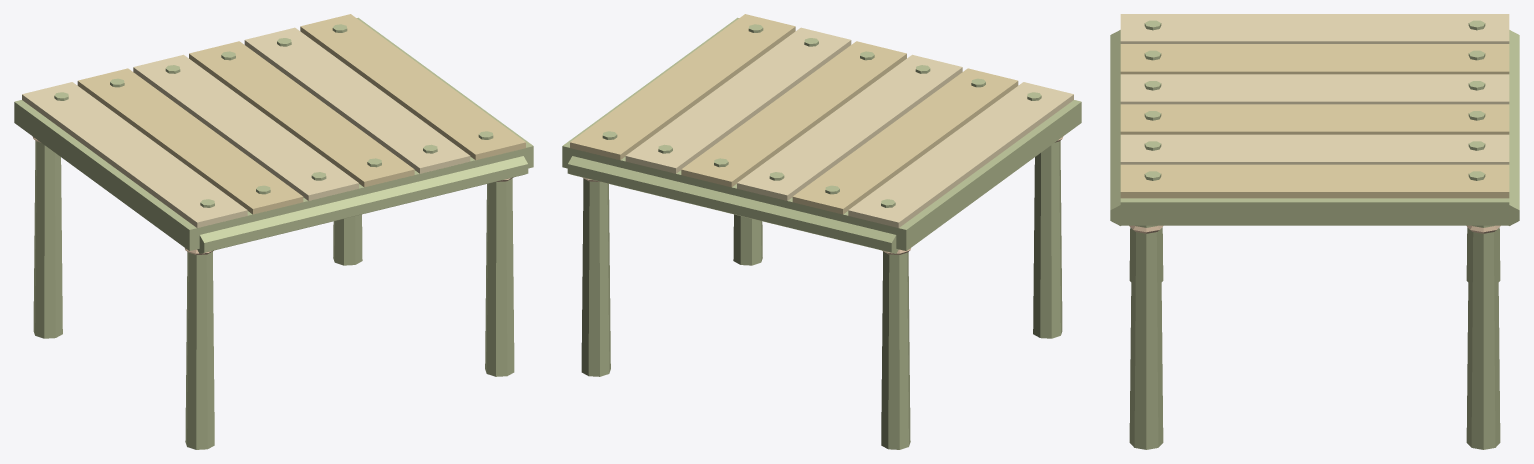
Rendered from muelle_bambu.glb.
The picture shows the model from 3 angles, left to right: view 1: azimuth 30°, elevation 25°; view 2: azimuth 150°, elevation 25°; view 3: azimuth 270°, elevation 25°; orthographic projection. The views are drawn at different scales.
Parts seen in each view (by area): view 1: muelle_bambu; view 2: muelle_bambu; view 3: muelle_bambu.
Boxes of the visible parts, x1,y1,x2,y2 form: muelle_bambu: (14,14,533,449); muelle_bambu: (562,14,1081,449); muelle_bambu: (1110,14,1519,449).
Size of the model in its own units: 3.4 by 2.23 by 3.16.
